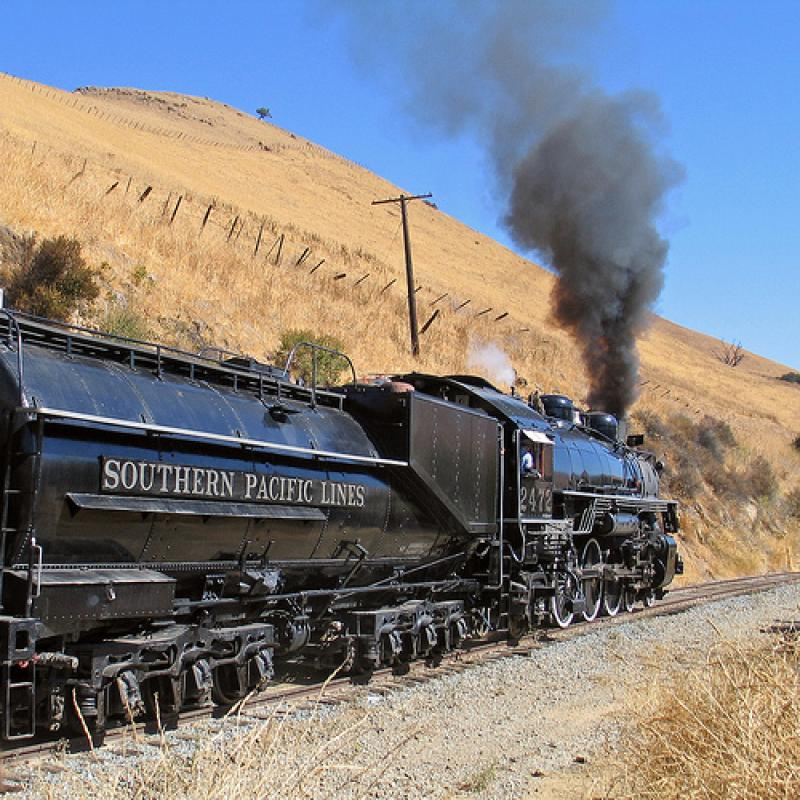train: (1, 306, 686, 748)
